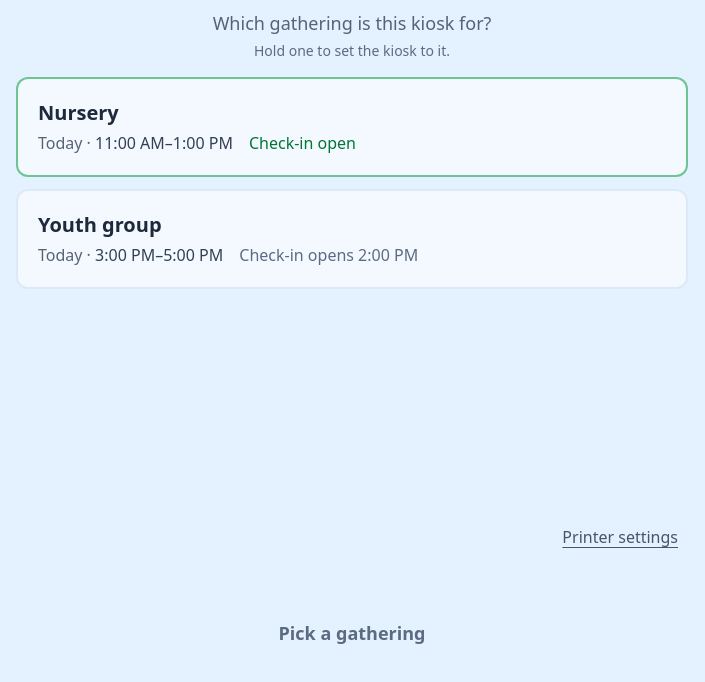
Test case: tapping a gathering › only picks it, and arms the button at the foot of the screen
Expected: the button "Pick a gathering" is shown, [16,577,688,665]
Press the mouse on the button "Nursery": {"x": 78, "y": 112} [16,77,688,177]
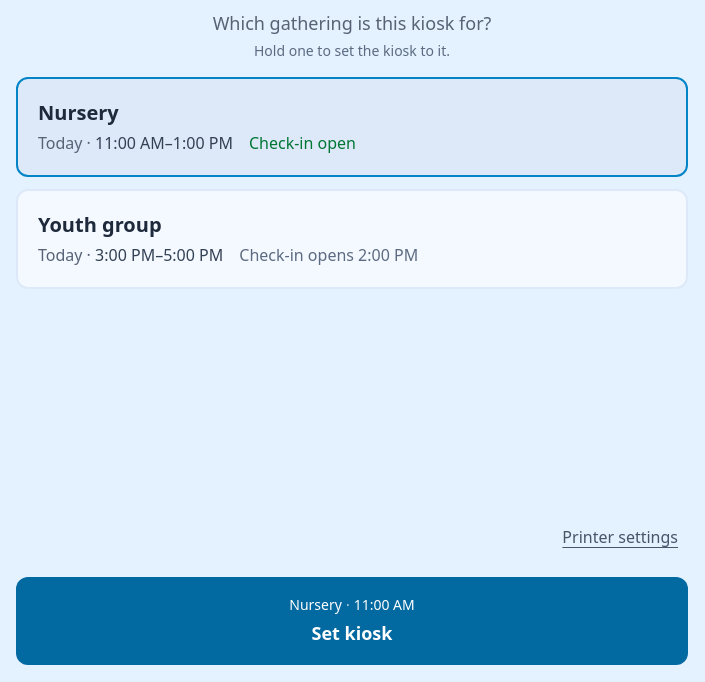
Result: the button "Nursery · 11:00 AM Set kiosk" is shown at [16,577,688,665]
